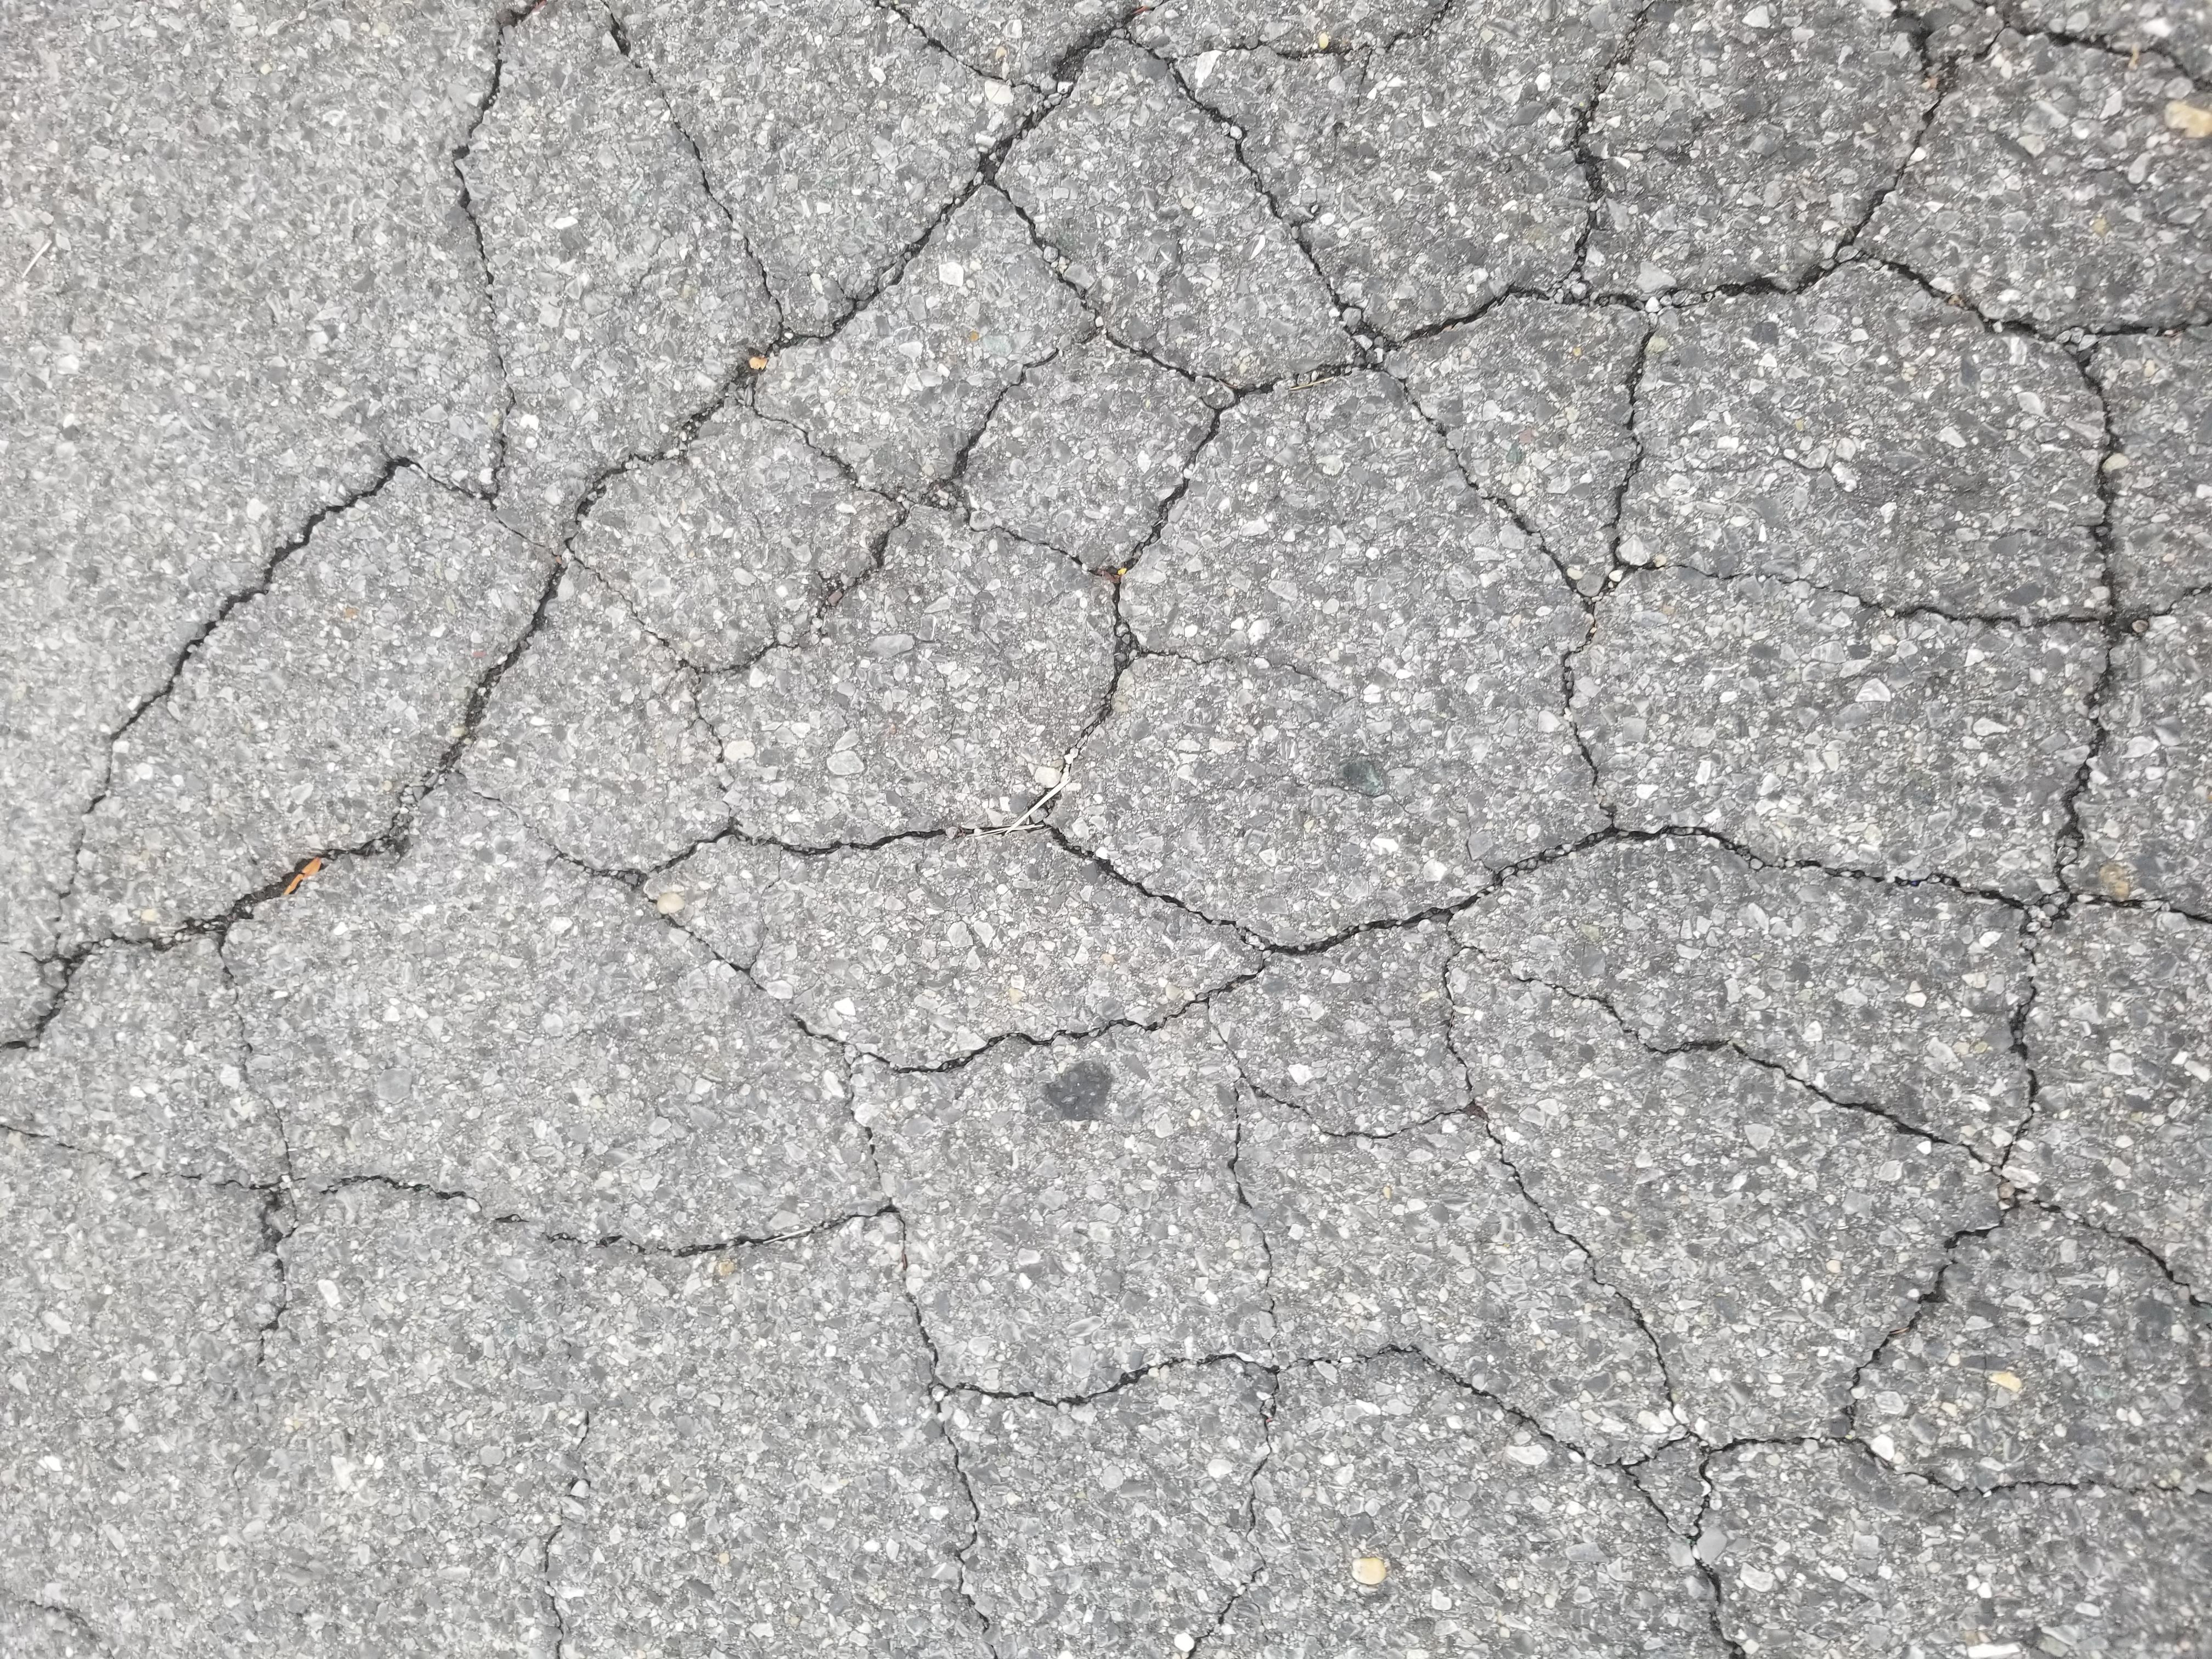alligator-crack: (876, 148, 2121, 1448)
crack: (178, 688, 512, 1248), (397, 120, 712, 584)
